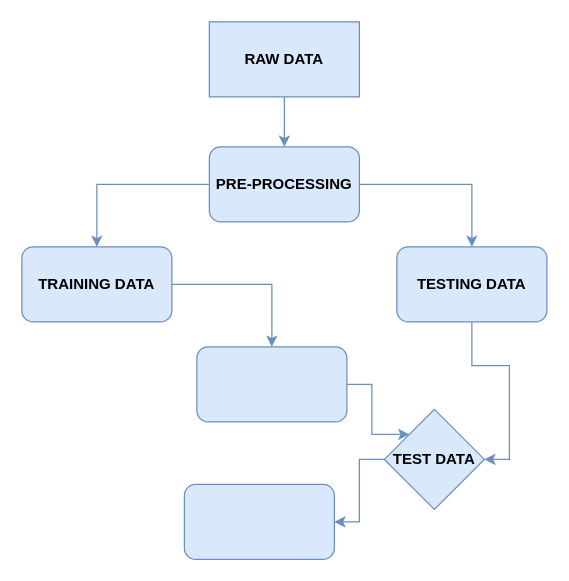
This 569x581 diagram has some shape labels left out. The shapes that lost their labels are listed below. From the top down, each one's centre as x and y in pixels, then its label:
point (271, 384): CLASSIFICATION MODEL
point (258, 521): PREDICTION
